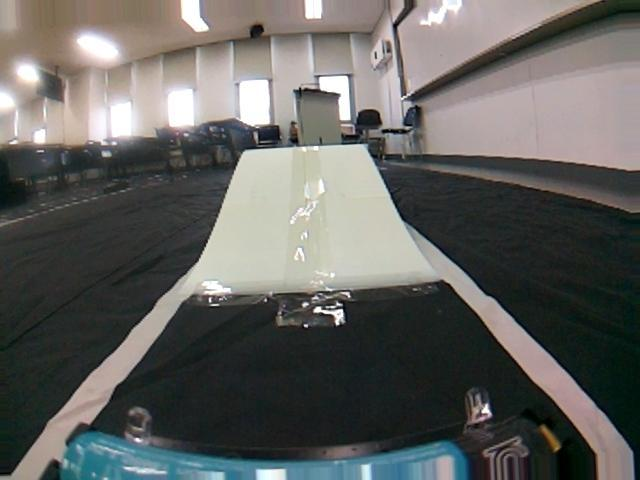hill_up: (185, 144, 444, 291)
